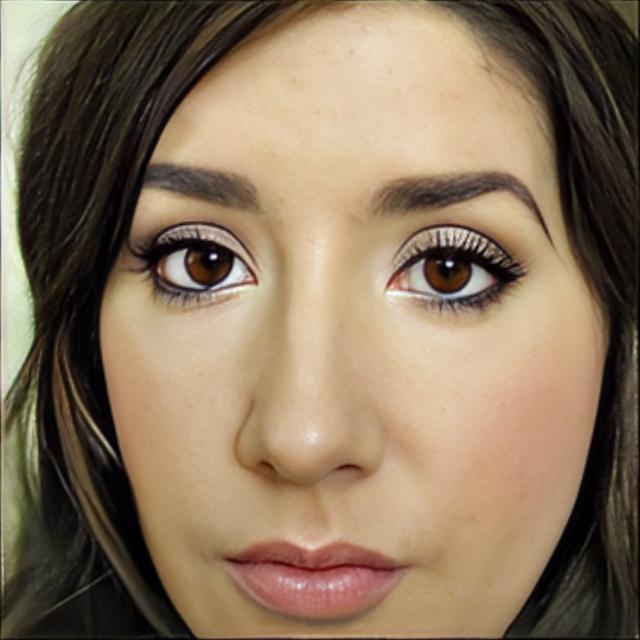neutral: (98, 0, 614, 640)
